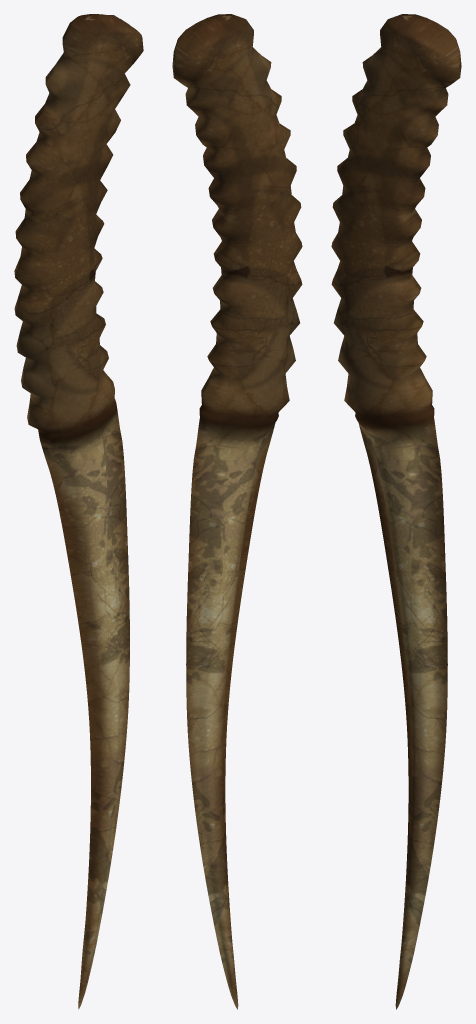
File: bone_knife 1.obj
3 views of the same model, side by side, from view 1: azimuth 30°, elevation 25°; view 2: azimuth 210°, elevation 25°; view 3: azimuth 330°, elevation 25° (orthographic).
Parts seen in each view (by area): view 1: Object__0; view 2: Object__0; view 3: Object__0.
Boxes of the visible parts, x1,y1,x2,y2 form: Object__0: [14, 14, 143, 1009]; Object__0: [172, 14, 302, 1009]; Object__0: [331, 14, 461, 1009].
Bounding box in the file's own units: 0.203 × 1.51 × 0.0792.
1 material, 1 textured.
